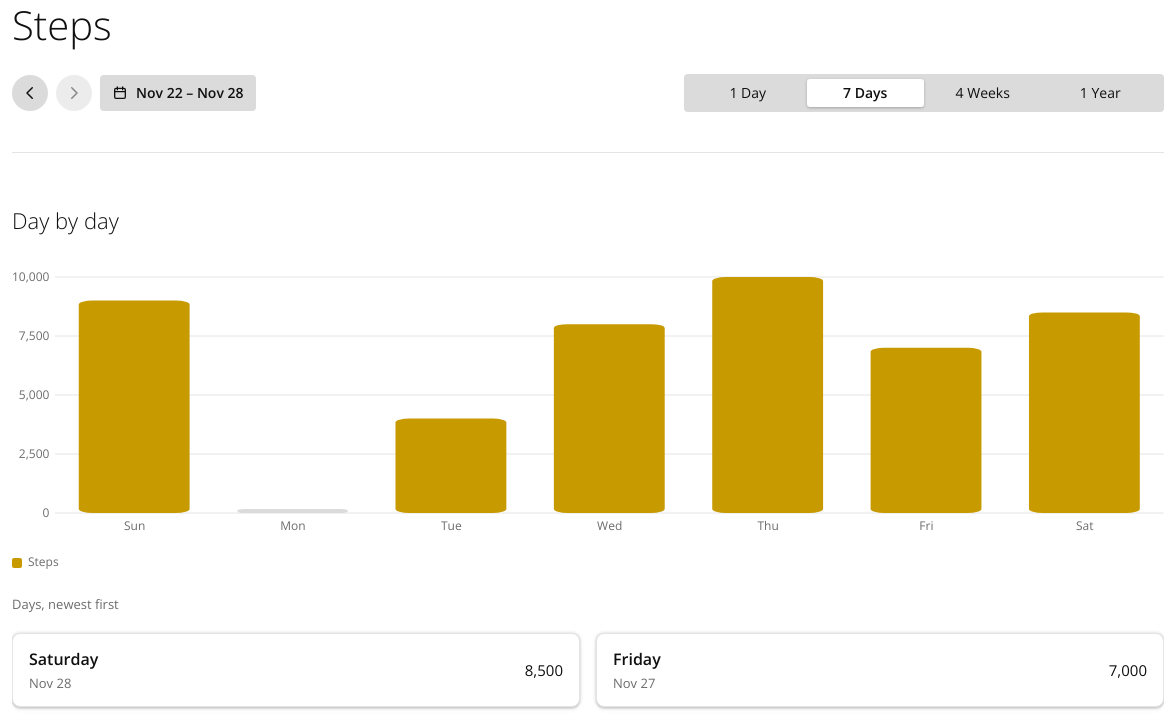
Test case: MetricPage, a week › steps back and forward by the length of the period, and disables next at today
This screenshot has width=1176, height=720.
expect the heading "Day by day" is shown: met, box [12,205,119,235]
expect the button named "Next period" is disabled: met, box [56,75,92,111]
Click the button named "Previous period" at (30, 93), box [12,75,48,111]
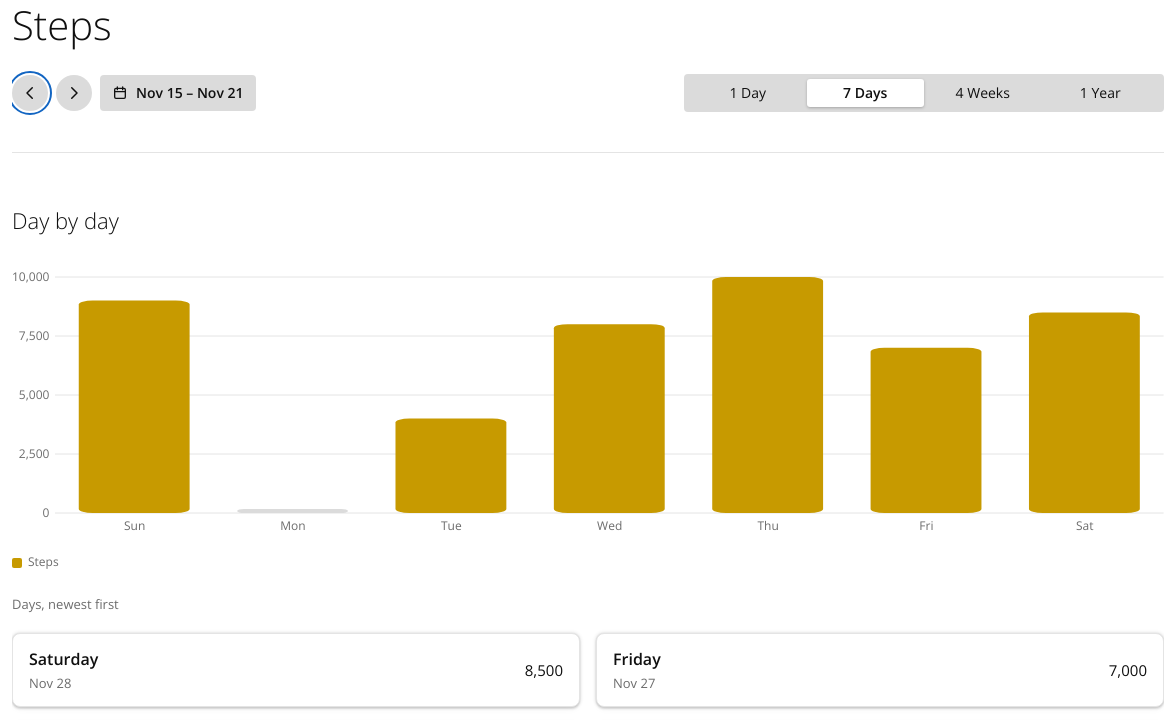
expect the heading "Day by day" is shown: met, box [12,205,119,235]
expect the button named "Next period" is enabled: met
Click the button named "Next period" at (74, 93), box [56,75,92,111]
(page scrolled)
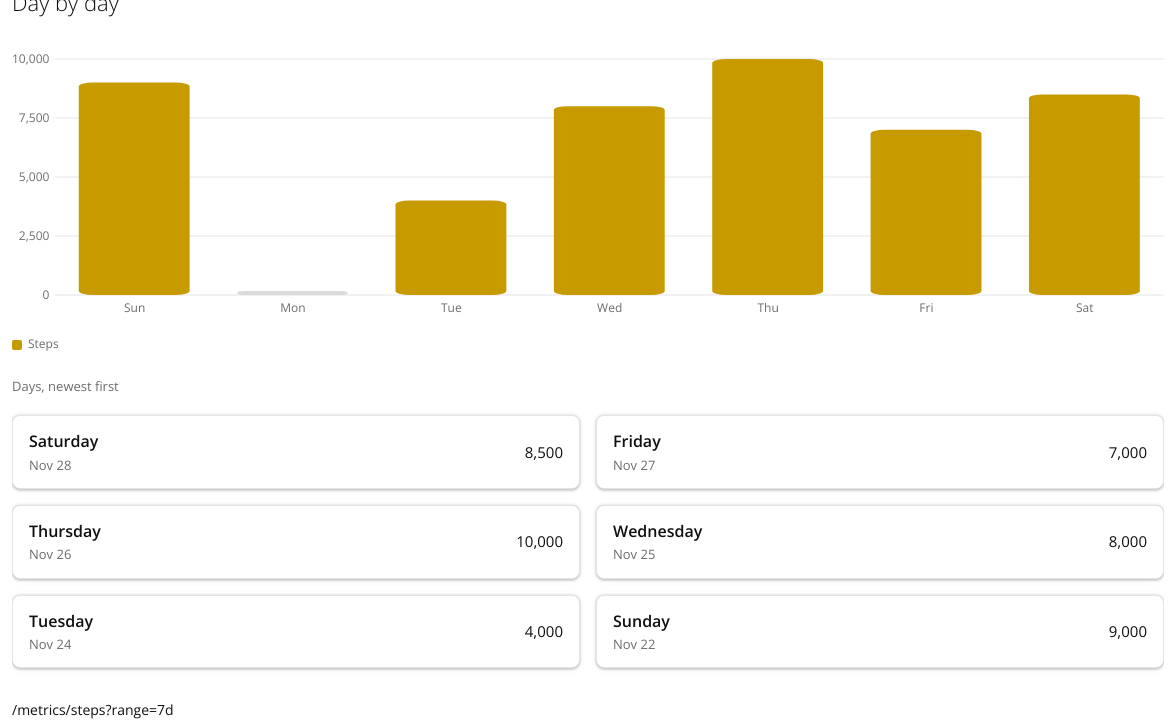
expect the text with test id "where" reads "/metrics/steps?range=7d": met, box [12,700,174,719]
